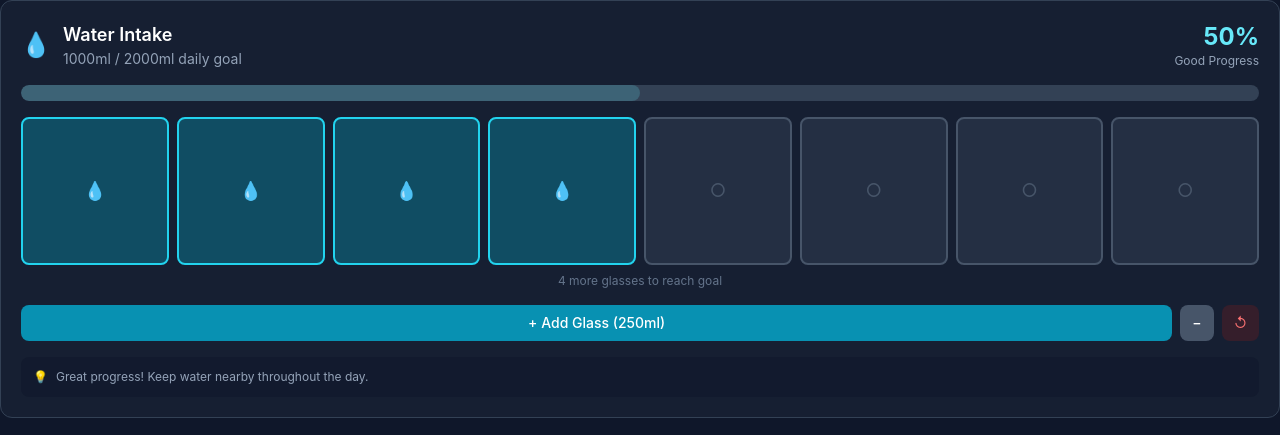
it: WaterTracker Component › Clicking Glass Indicators › should remove glass when clicking filled glass
The image size is (1280, 435).
Click the 1st button titled "Remove glass" at (95, 191), box [21,117,169,265]
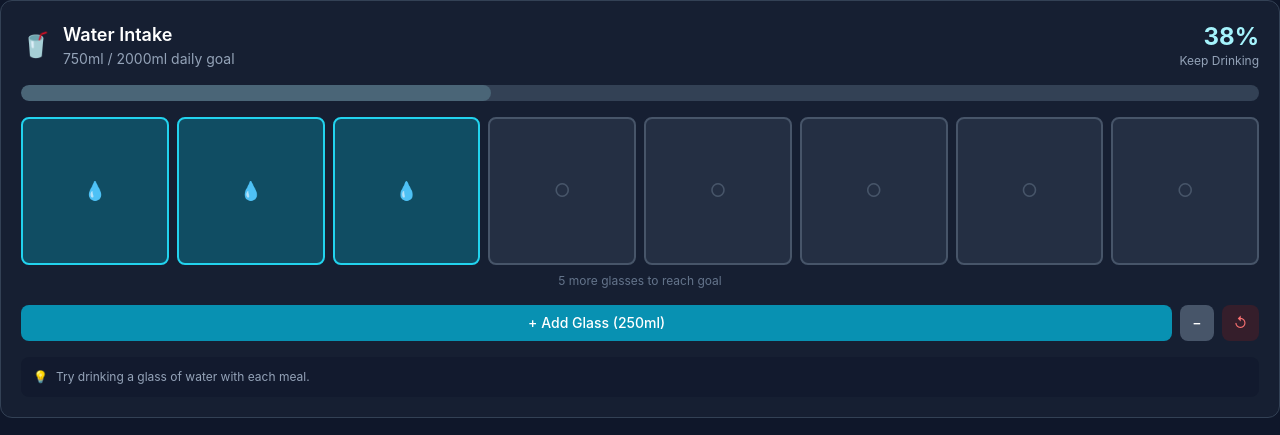
Expected: the text "750ml / 2000ml daily goal" is shown, [63,49,234,69]
